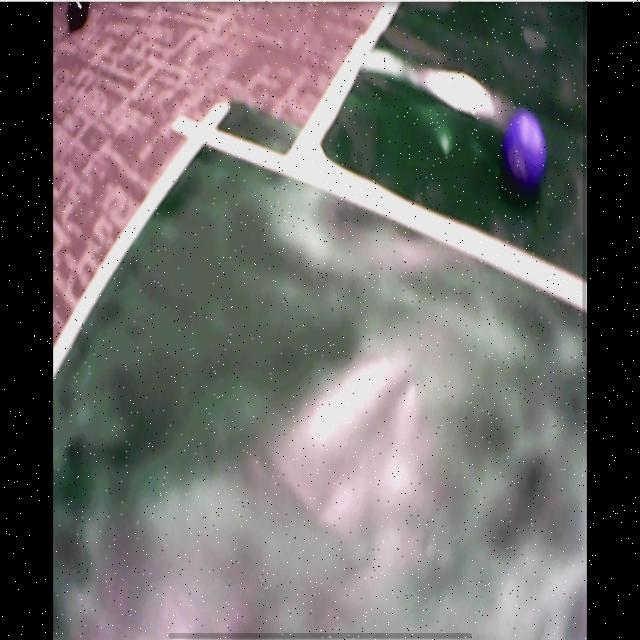ball: (508, 115, 547, 186)
